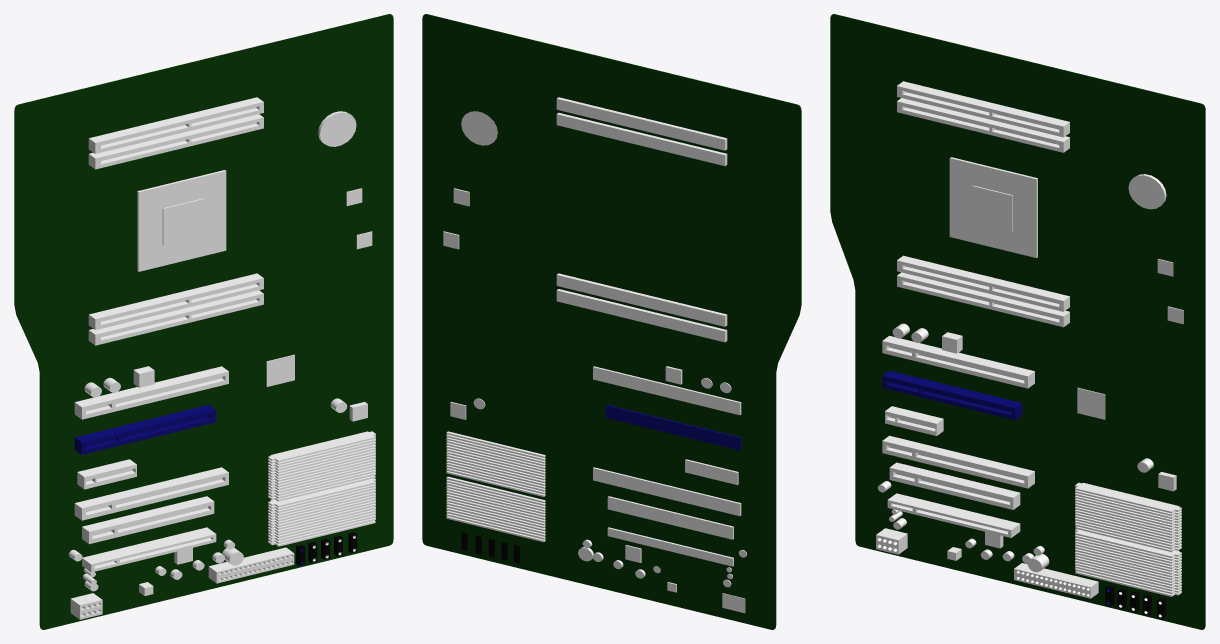
File: motherboard.FBX
3 renders of one model, left to right at view 1: azimuth 30°, elevation 25°; view 2: azimuth 150°, elevation 25°; view 3: azimuth 330°, elevation 25°, orthographic.
Visible parts, largest first — view 1: Box216; view 2: Box216; view 3: Box216.
Boxes of the visible parts, x1,y1,x2,y2 form: Box216: (14,14,393,629); Box216: (422,14,801,629); Box216: (830,14,1205,629).
Bounding box in the file's own units: 32.95 × 44.18 × 1.81.
